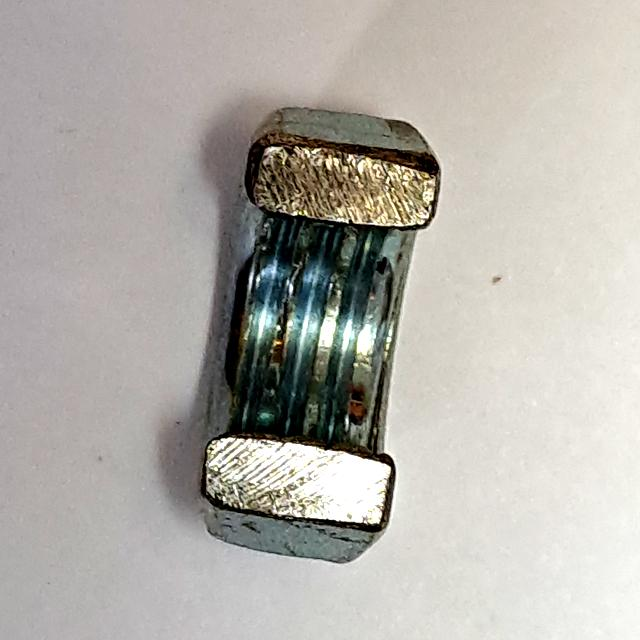Side-Fracture: (179, 89, 451, 576)
